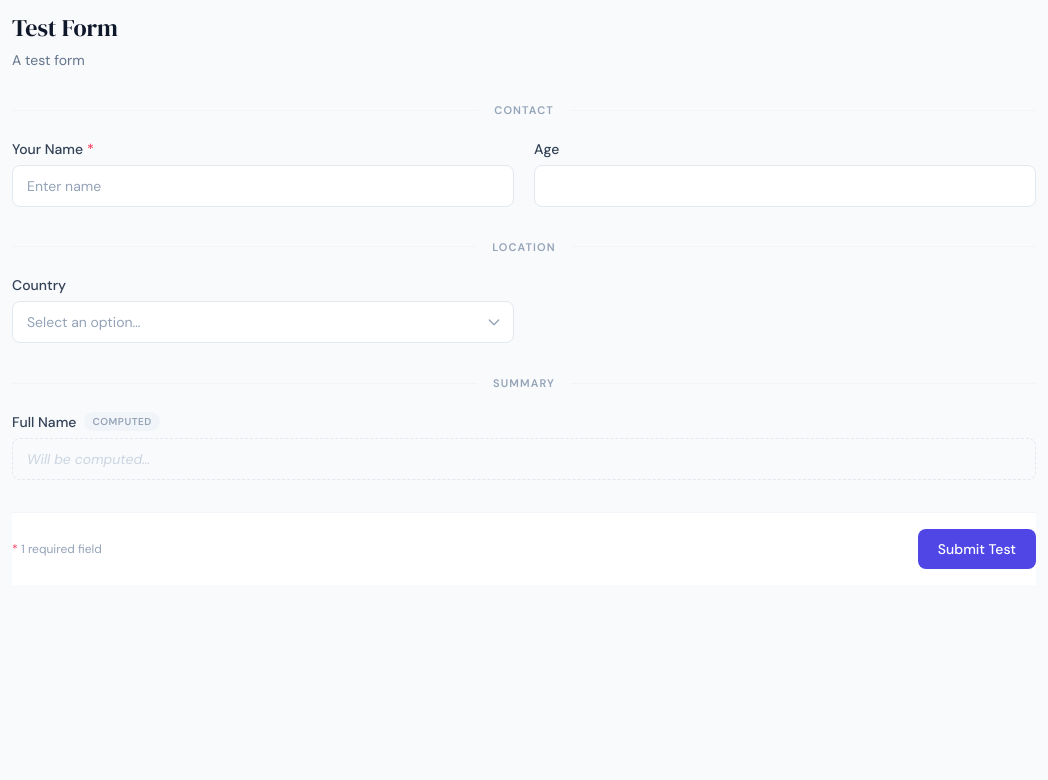
FormRenderer — blur-time validation › shows a required error immediately when a field is blurred empty
The image size is (1048, 780).
Focus then blur without typing
Click the field labelled "Your Name*" at {"x": 263, "y": 186}, box x1=12 y1=164 x2=514 y2=206
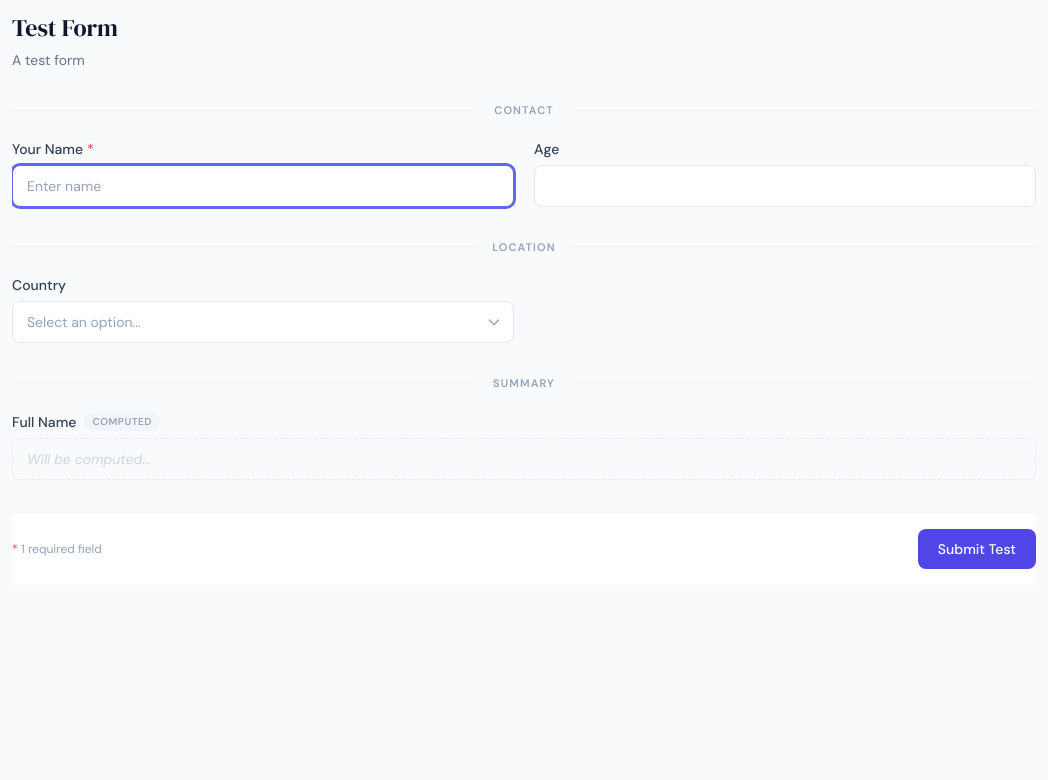
Press Tab
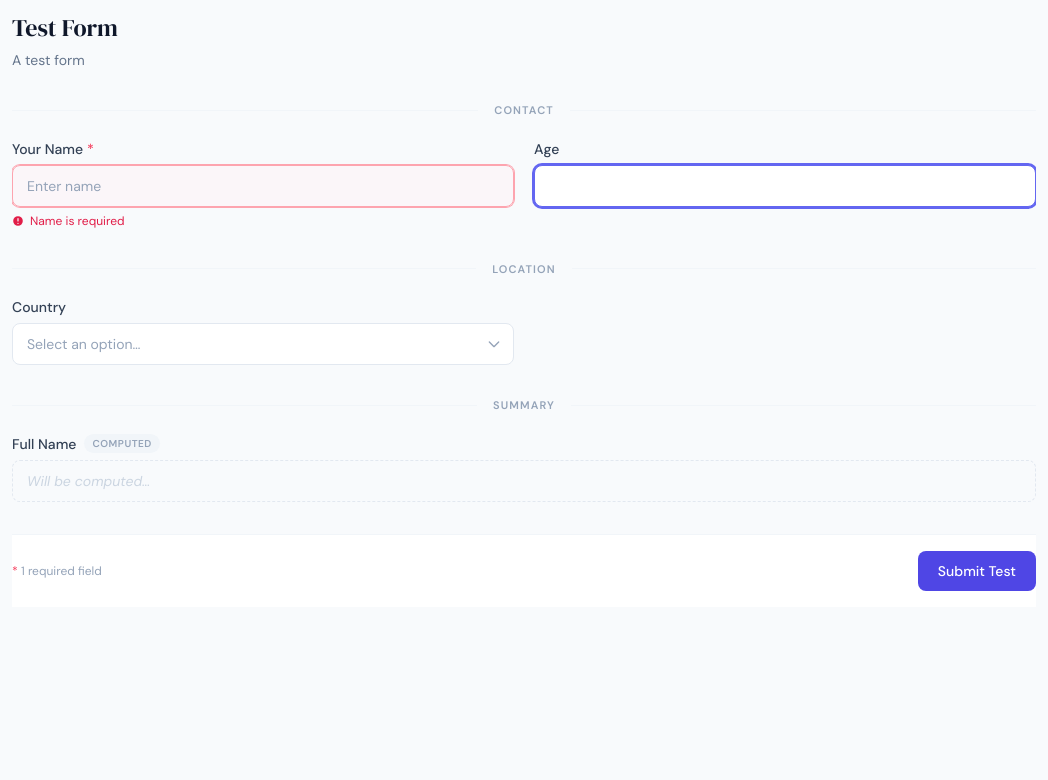
Expected: the text "Name is required" is shown, x1=12 y1=212 x2=124 y2=228
